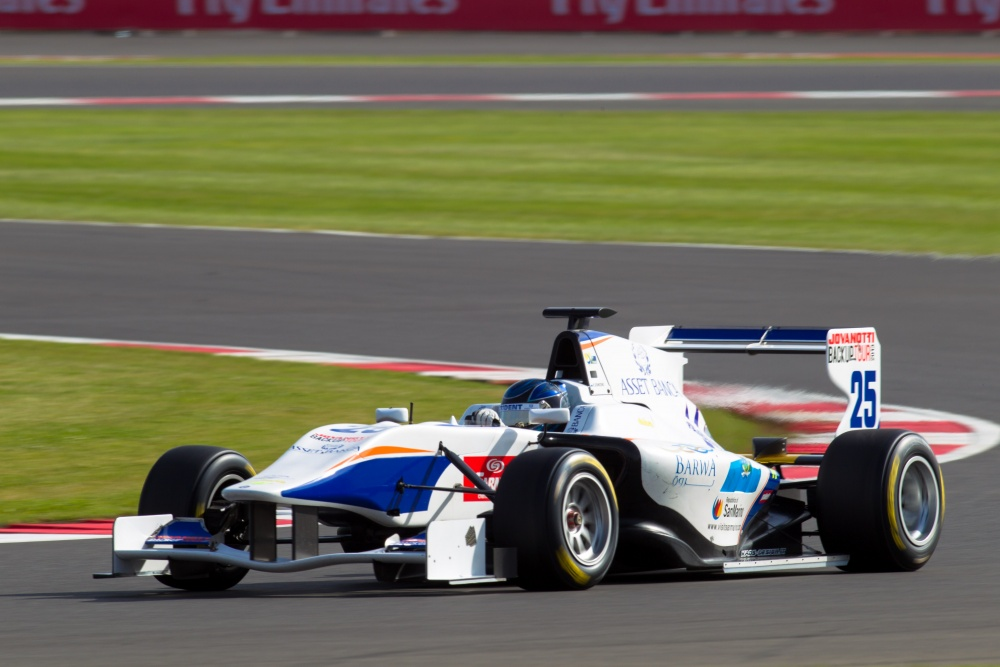race car: (92, 302, 950, 597)
